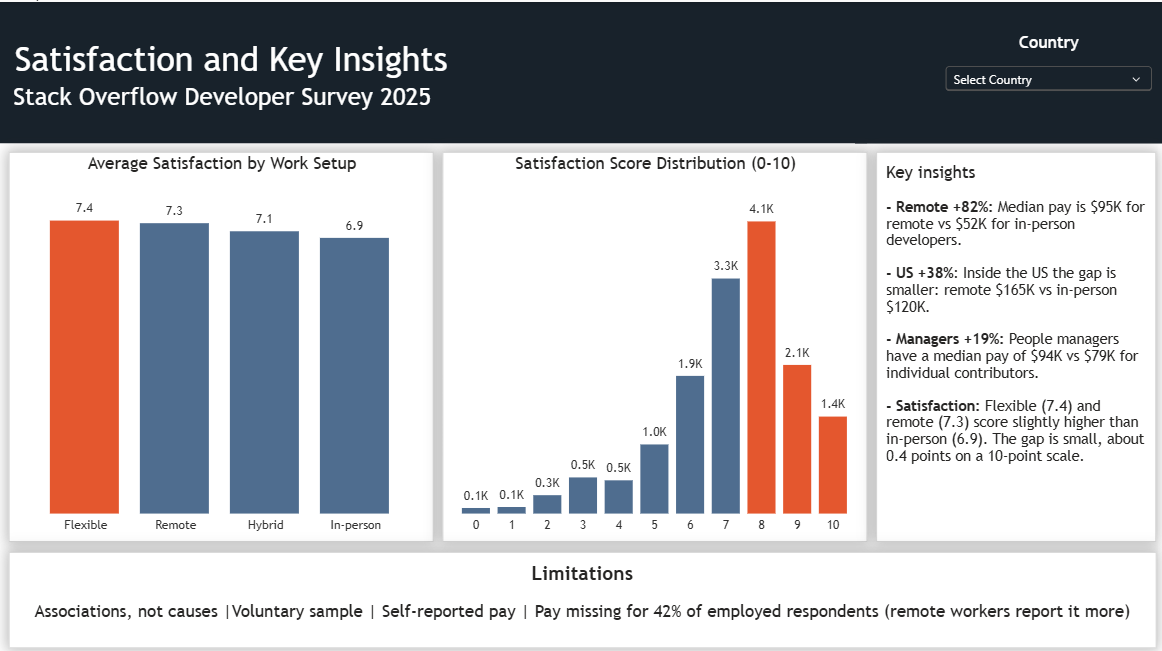

What the dashboard file says about the page in this screenshot:
{"tool":"powerbi","page":{"name":"Satisfaction & Insights","canvas":[1280,720],"ordinal":2},"visuals":[{"type":"shape","box":[0,0,950.9,155.1],"z":0},{"type":"shape","box":[938.3,0,341.7,155.1],"z":1000},{"type":"textbox","box":[0,0,854.9,155.1],"z":2000},{"type":"listSlicer","title":"Country","fields":{"Values":["so_survey_2025_clean.Country"]},"box":[1033.3,32.9,236,90.6],"z":3000},{"type":"clusteredColumnChart","title":"Average Satisfaction by Work Setup","fields":{"Category":["so_survey_2025_clean.RemoteWork"],"Y":["Measures Table.Average Satisfaction"]},"box":[9.6,165.4,466.6,428.1],"z":4000},{"type":"clusteredColumnChart","title":"Satisfaction Score Distribution (0-10)","fields":{"Category":["so_survey_2025_clean.JobSat"],"Y":["Count(so_survey_2025_clean.ResponseId)"]},"box":[485.8,164.7,466.6,428.1],"z":5000},{"type":"textbox","box":[961.9,164.7,307.4,428.1],"z":6000},{"type":"textbox","box":[9.6,603.8,1259.7,105.7],"z":7000}]}

Visuals, with their boxes in screenshot pixels (x1, y1, x2, y2), scaled from the page's 1280x720 canvas onto the 1162x651 screenshot:
shape: (0, 0, 863, 140)
shape: (852, 0, 1161, 140)
textbox: (0, 0, 776, 140)
"Country" listSlicer: (938, 30, 1152, 112)
"Average Satisfaction by Work Setup" clusteredColumnChart: (9, 150, 432, 537)
"Satisfaction Score Distribution (0-10)" clusteredColumnChart: (441, 149, 865, 536)
textbox: (873, 149, 1152, 536)
textbox: (9, 546, 1152, 642)
